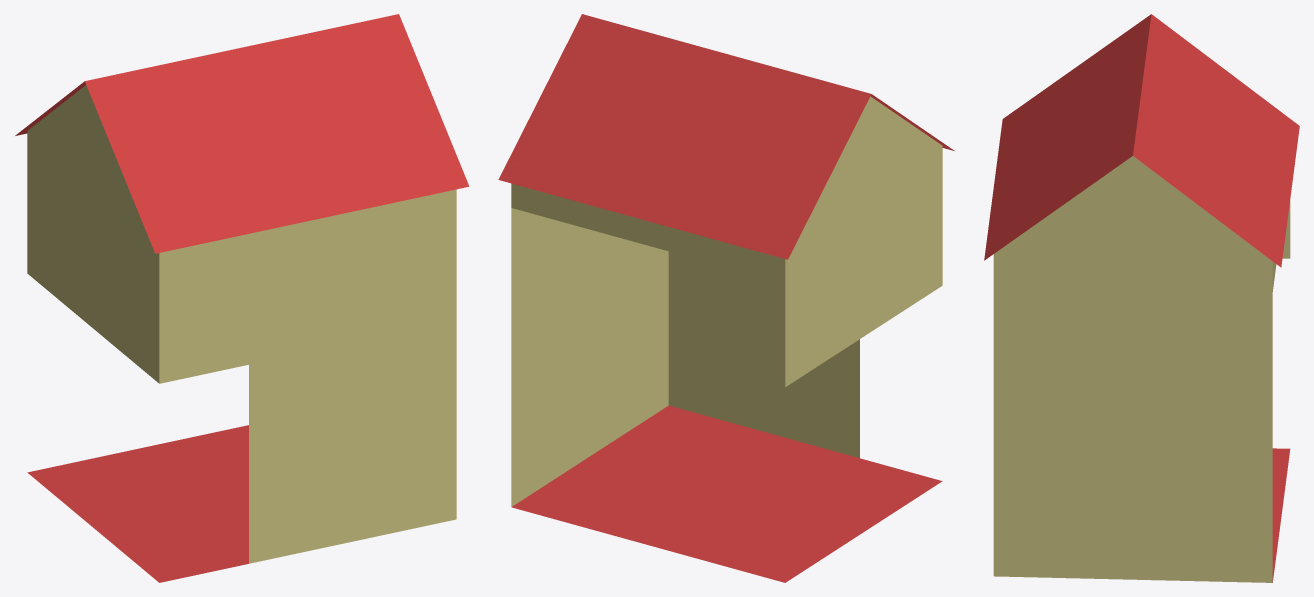
3 renders of one model, left to right at view 1: azimuth 30°, elevation 25°; view 2: azimuth 150°, elevation 25°; view 3: azimuth 270°, elevation 25°, orthographic. The views are drawn at different scales.
Bounding box in the file's own units: 9.75 × 8.75 × 13.08.
